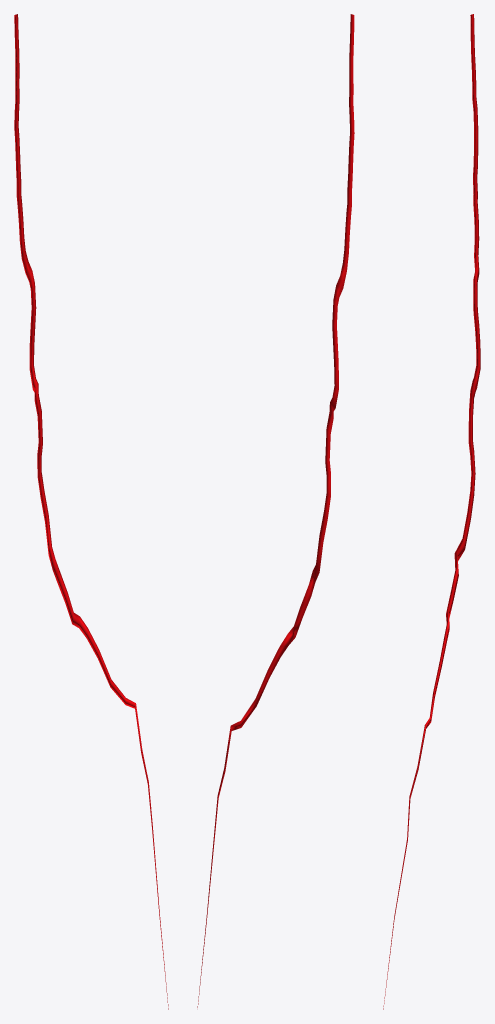
Rendered from Lightning Bolt 2.fbx.
3 renders of one model, left to right at view 1: azimuth 30°, elevation 25°; view 2: azimuth 210°, elevation 25°; view 3: azimuth 270°, elevation 25°, orthographic. The views are drawn at different scales.
Parts seen in each view (by area): view 1: Lightning Bolt 2; view 2: Lightning Bolt 2; view 3: Lightning Bolt 2.
Boxes of the visible parts, bbox=[...] form: Lightning Bolt 2: bbox=[14, 14, 168, 1009]; Lightning Bolt 2: bbox=[197, 14, 354, 1007]; Lightning Bolt 2: bbox=[383, 14, 480, 1009].
Size of the model in its own units: 13.86 by 122 by 11.38.
